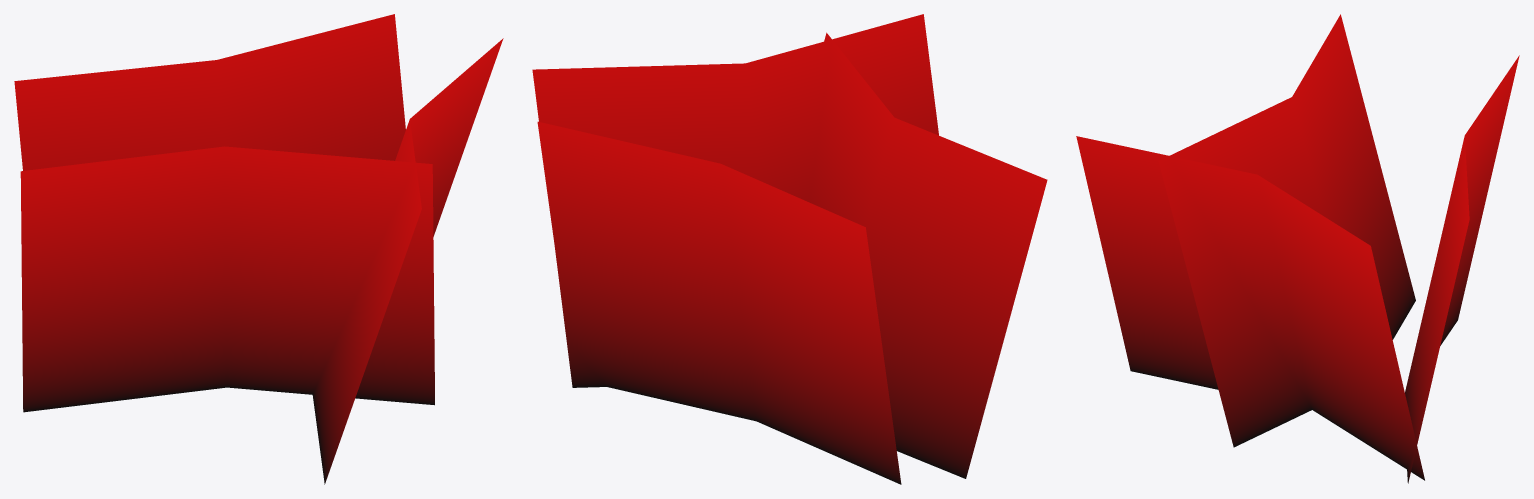
The model's file is SM_detail_grassS_C_LOD2.FBX.
3 renders of one model, left to right at view 1: azimuth 30°, elevation 25°; view 2: azimuth 150°, elevation 25°; view 3: azimuth 270°, elevation 25°, orthographic. The views are drawn at different scales.
Visible parts, largest first — view 1: SM_detail_grassM_C_LOD2; view 2: SM_detail_grassM_C_LOD2; view 3: SM_detail_grassM_C_LOD2.
Boxes of the visible parts, x1,y1,x2,y2 form: SM_detail_grassM_C_LOD2: (14,14,503,484); SM_detail_grassM_C_LOD2: (532,14,1047,484); SM_detail_grassM_C_LOD2: (1076,14,1519,483).
Size of the model in its own units: 195 by 105 by 157.
